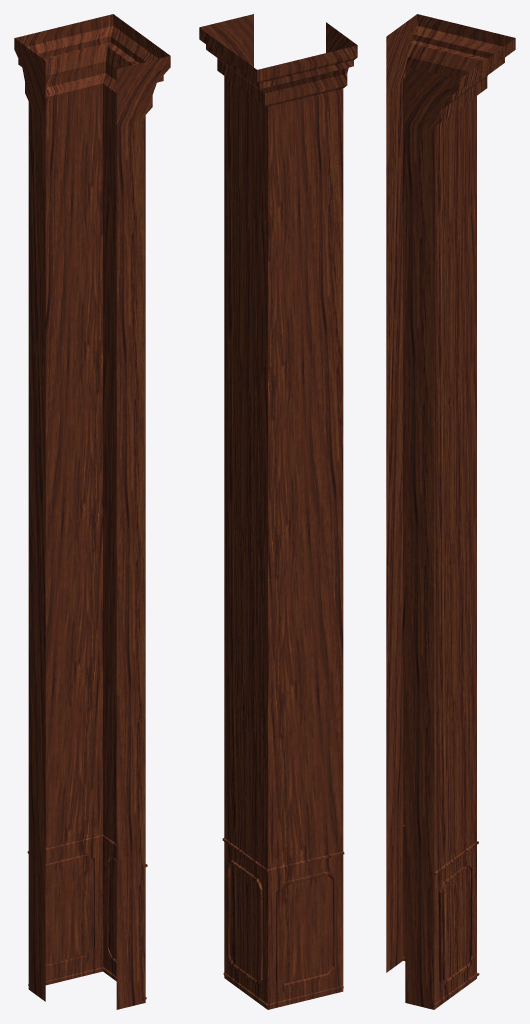
The model's file is Tiang_90_derajat.fbx.
The picture shows the model from 3 angles, left to right: view 1: azimuth 30°, elevation 25°; view 2: azimuth 210°, elevation 25°; view 3: azimuth 330°, elevation 25°; orthographic projection. The views are drawn at different scales.
Parts seen in each view (by area): view 1: Tiang 90 derajat; view 2: Tiang 90 derajat; view 3: Tiang 90 derajat.
Part boxes in pixels (bbox=[...]): Tiang 90 derajat: bbox=[14, 14, 170, 1009]; Tiang 90 derajat: bbox=[199, 14, 357, 1009]; Tiang 90 derajat: bbox=[386, 14, 515, 1009].
Bounding box in the file's own units: 44 × 400 × 44.
Materials: 1 (1 with a texture image).
